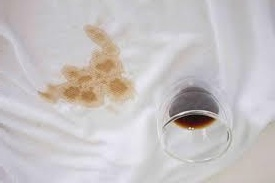coffee: (66, 69, 126, 99), (97, 44, 118, 66), (44, 86, 64, 99), (85, 28, 104, 40)
